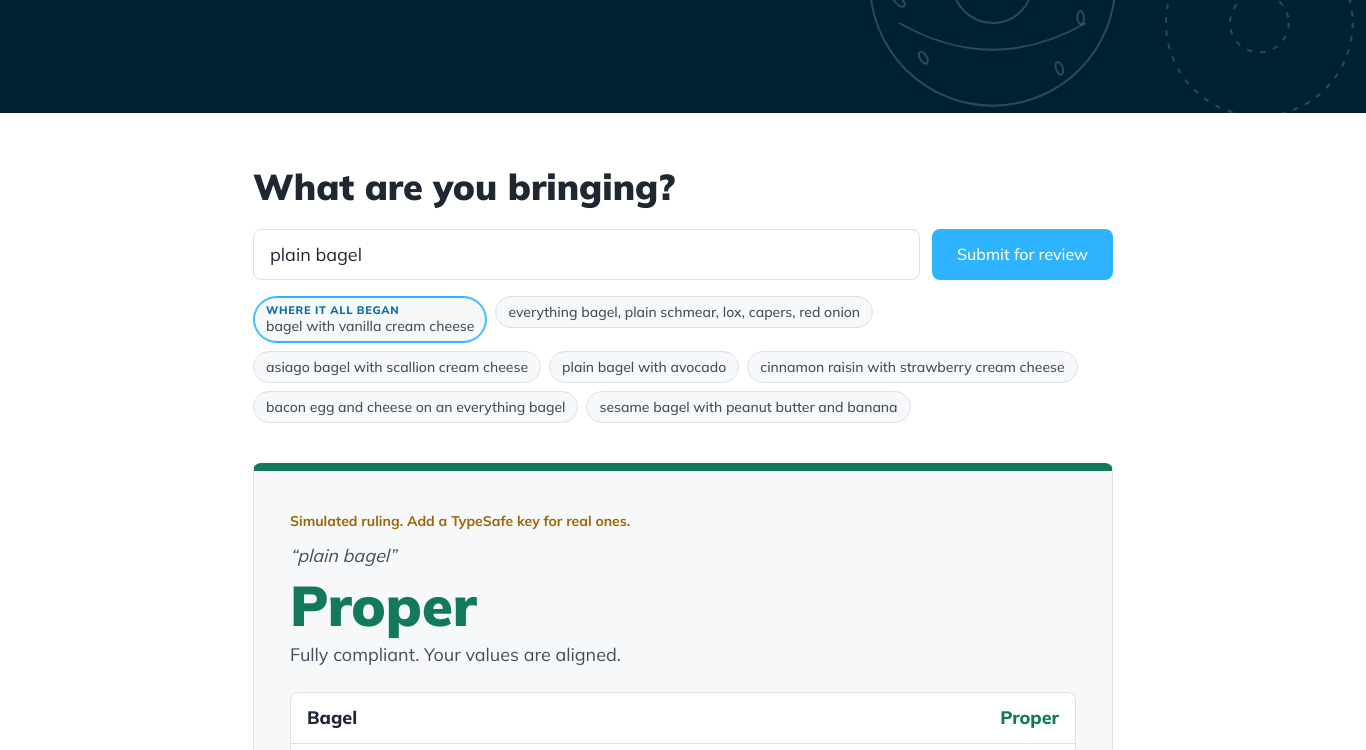
Scenario: share links › rules on the order in the URL and pushes new orders
(page scrolled)
Expected: the heading "Proper" is shown, [290,570,477,640]
Expected: the field labelled "What are you bringing?" holds "plain bagel", [253,229,920,280]
Click the button "cinnamon raisin with strawberry cream cheese" at (912, 367), box [747,350,1078,383]
(page scrolled)
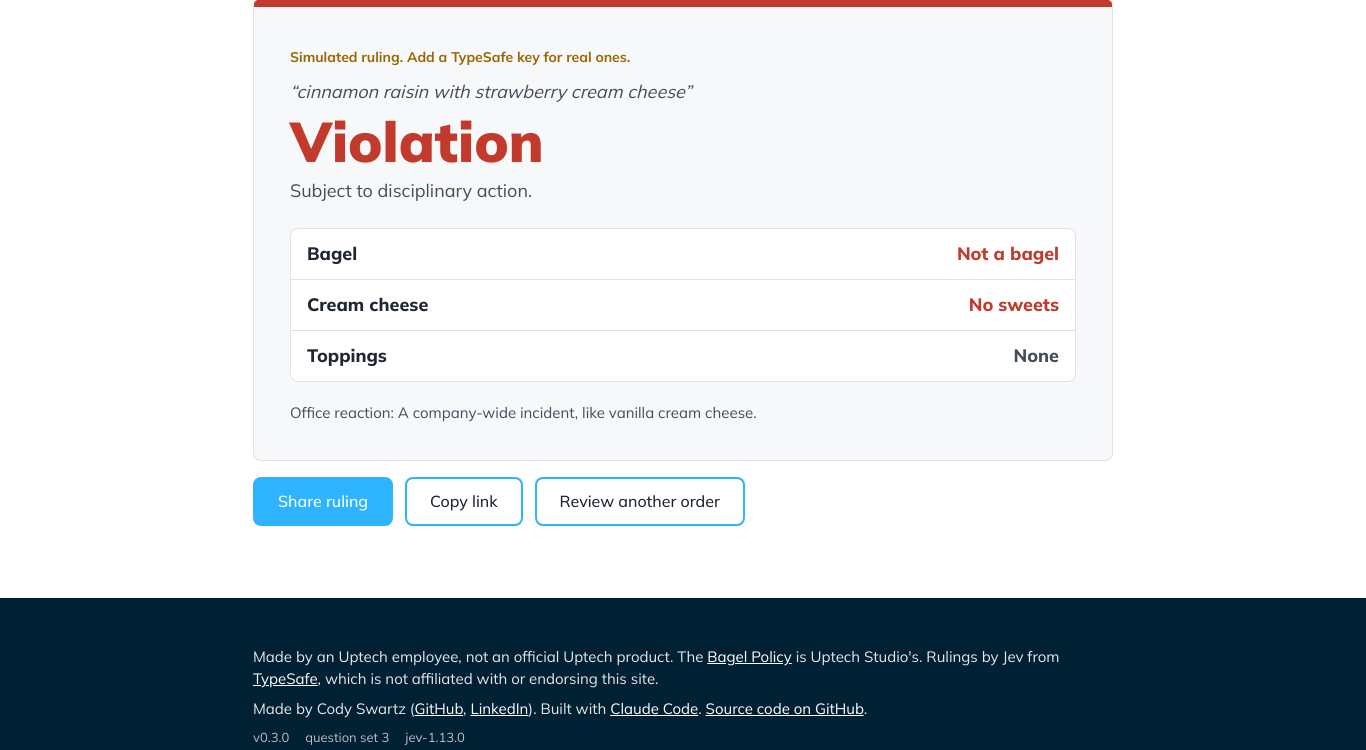
Now the heading "Violation" is shown, box [290,106,544,176]
